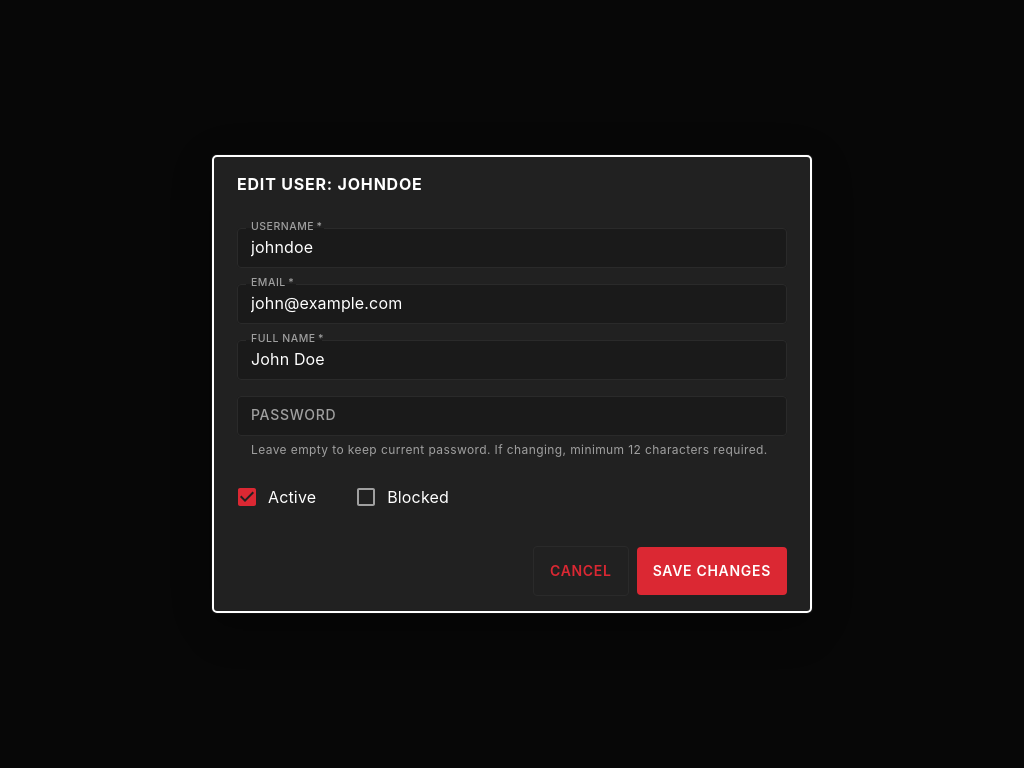
Test: EditUserModal › Deactivation warning › warns that ticking Blocked on an unblocked user revokes their tokens
Step 1. Click the checkbox labelled "Blocked" → (402, 497), box left=354, top=485, right=449, bottom=509
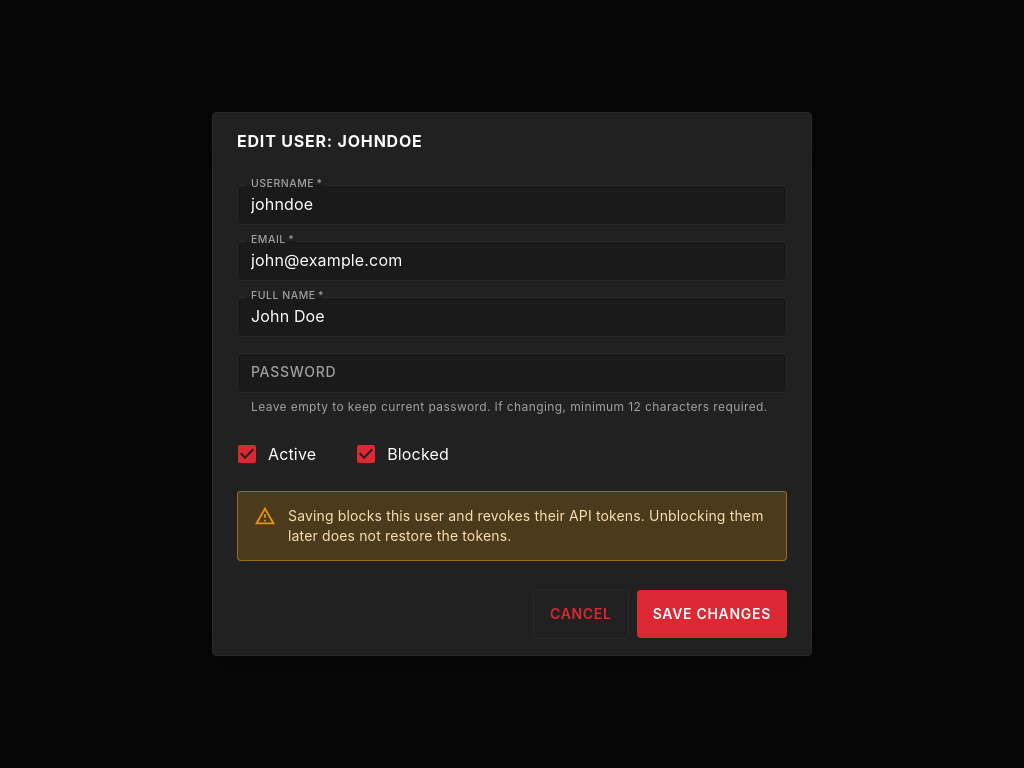
expect the text "blocks this user and revokes their API tokens. Unblocking" is shown: met, box left=288, top=507, right=764, bottom=544
Step 2. Click the checkbox labelled "Blocked" → (402, 454), box left=354, top=442, right=449, bottom=466
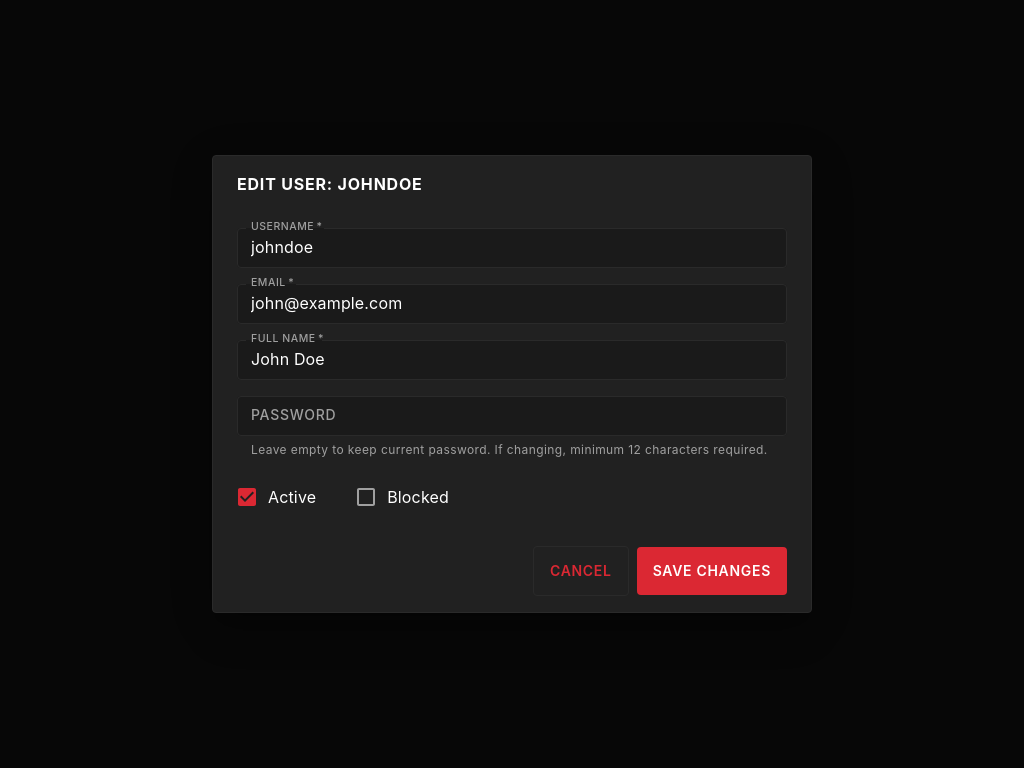
expect the text "revokes their API tokens" is gone: met
